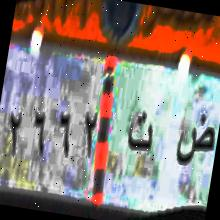2: (75, 109, 100, 166), (2, 106, 26, 159)
6: (25, 104, 52, 164), (50, 108, 76, 169)
daad: (170, 104, 218, 178)
taa: (122, 105, 158, 160)
